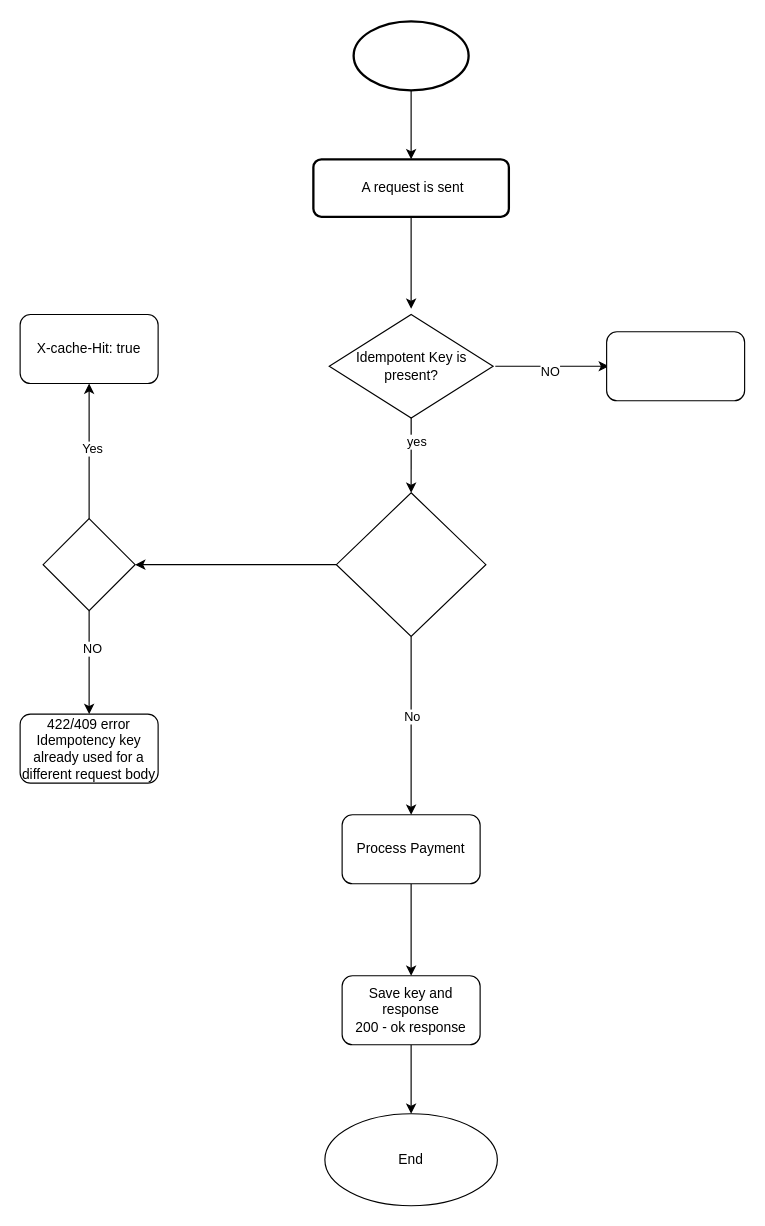
The diagram is 765 pixels wide and 1226 high, and some of its shapes have lost their labels. Here are the shapes that lost their labels. From the top down, the box of each, then its label:
(352, 20, 469, 91): Start
(605, 331, 745, 401): Idempotent key required 400 error
(42, 518, 135, 611): Same Payload
(335, 492, 486, 637): Idempotent key used before?
